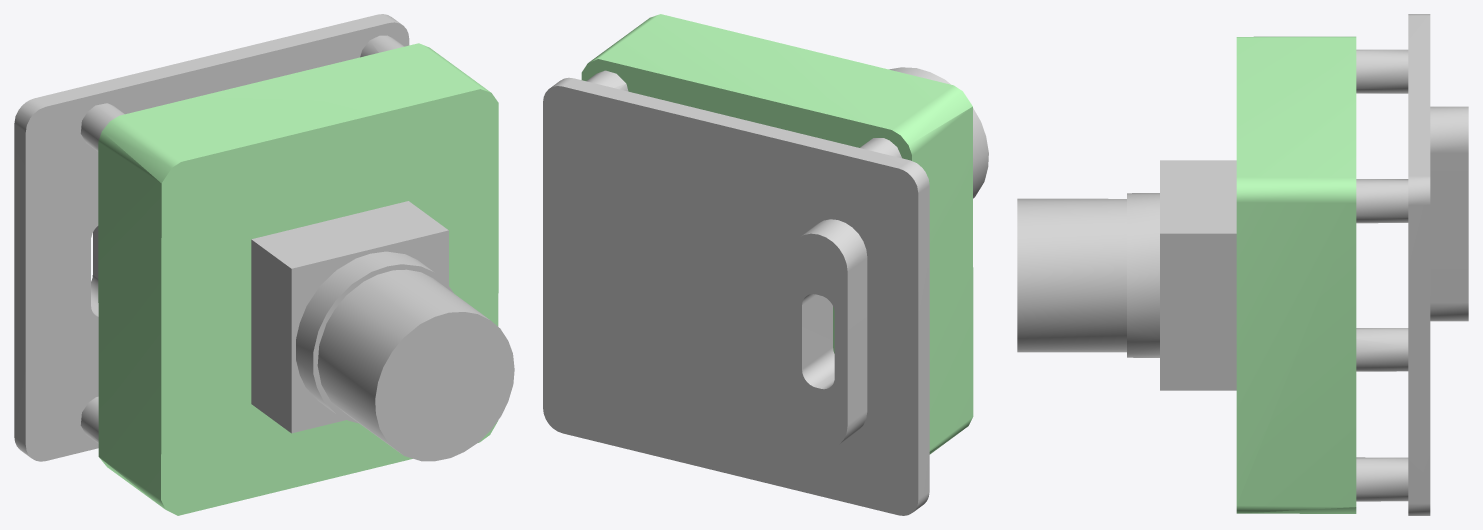
File: camera.dae
3 renders of one model, left to right at view 1: azimuth 30°, elevation 25°; view 2: azimuth 150°, elevation 25°; view 3: azimuth 270°, elevation 25°, orthographic. The views are drawn at different scales.
Parts seen in each view (by area): view 1: ee_base_link_03, ee_base_link_05, ee_base_link_04; view 2: ee_base_link_04, ee_base_link_03, ee_base_link_05; view 3: ee_base_link_03, ee_base_link_05, ee_base_link_04.
Part boxes in pixels (x1,y1,x2,y2): ee_base_link_03: (98, 43, 498, 515); ee_base_link_05: (251, 201, 514, 461); ee_base_link_04: (14, 14, 409, 461); ee_base_link_04: (543, 70, 929, 515); ee_base_link_03: (581, 14, 973, 454); ee_base_link_05: (889, 67, 988, 198); ee_base_link_03: (1236, 36, 1356, 513); ee_base_link_05: (1017, 160, 1236, 390); ee_base_link_04: (1356, 14, 1468, 515).
Size of the model in its own units: 0.0385 by 0.034 by 0.0412.
